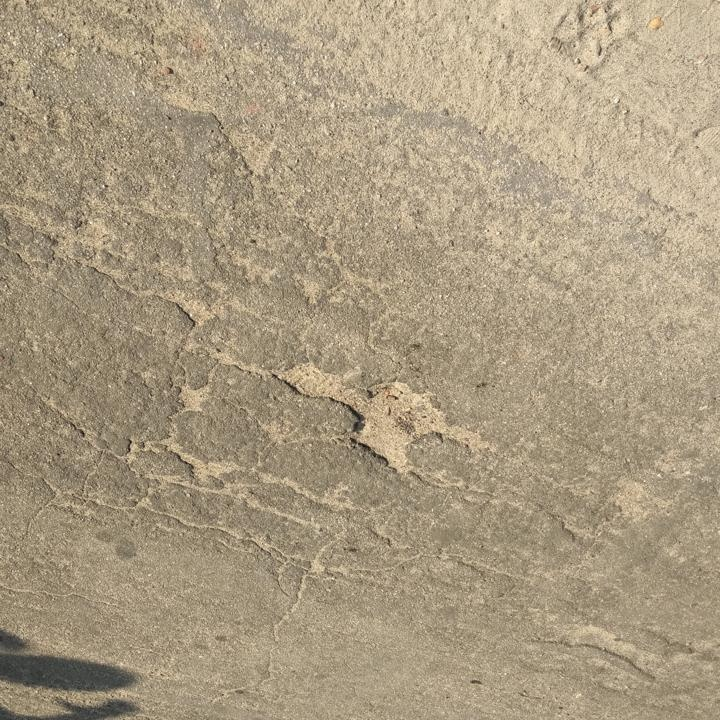pothole: (275, 358, 492, 480)
